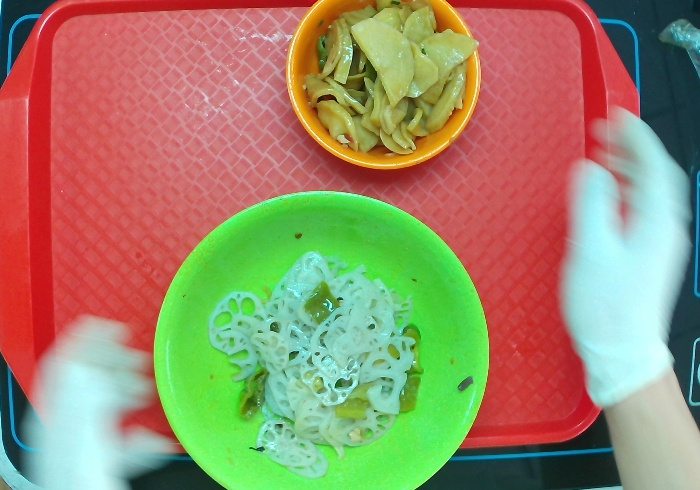YKMZ-Ju_Se_Yuan_Wan: (284, 1, 482, 171)
YKMZ-Lv_Se_Tang_Wan: (150, 186, 492, 490)
